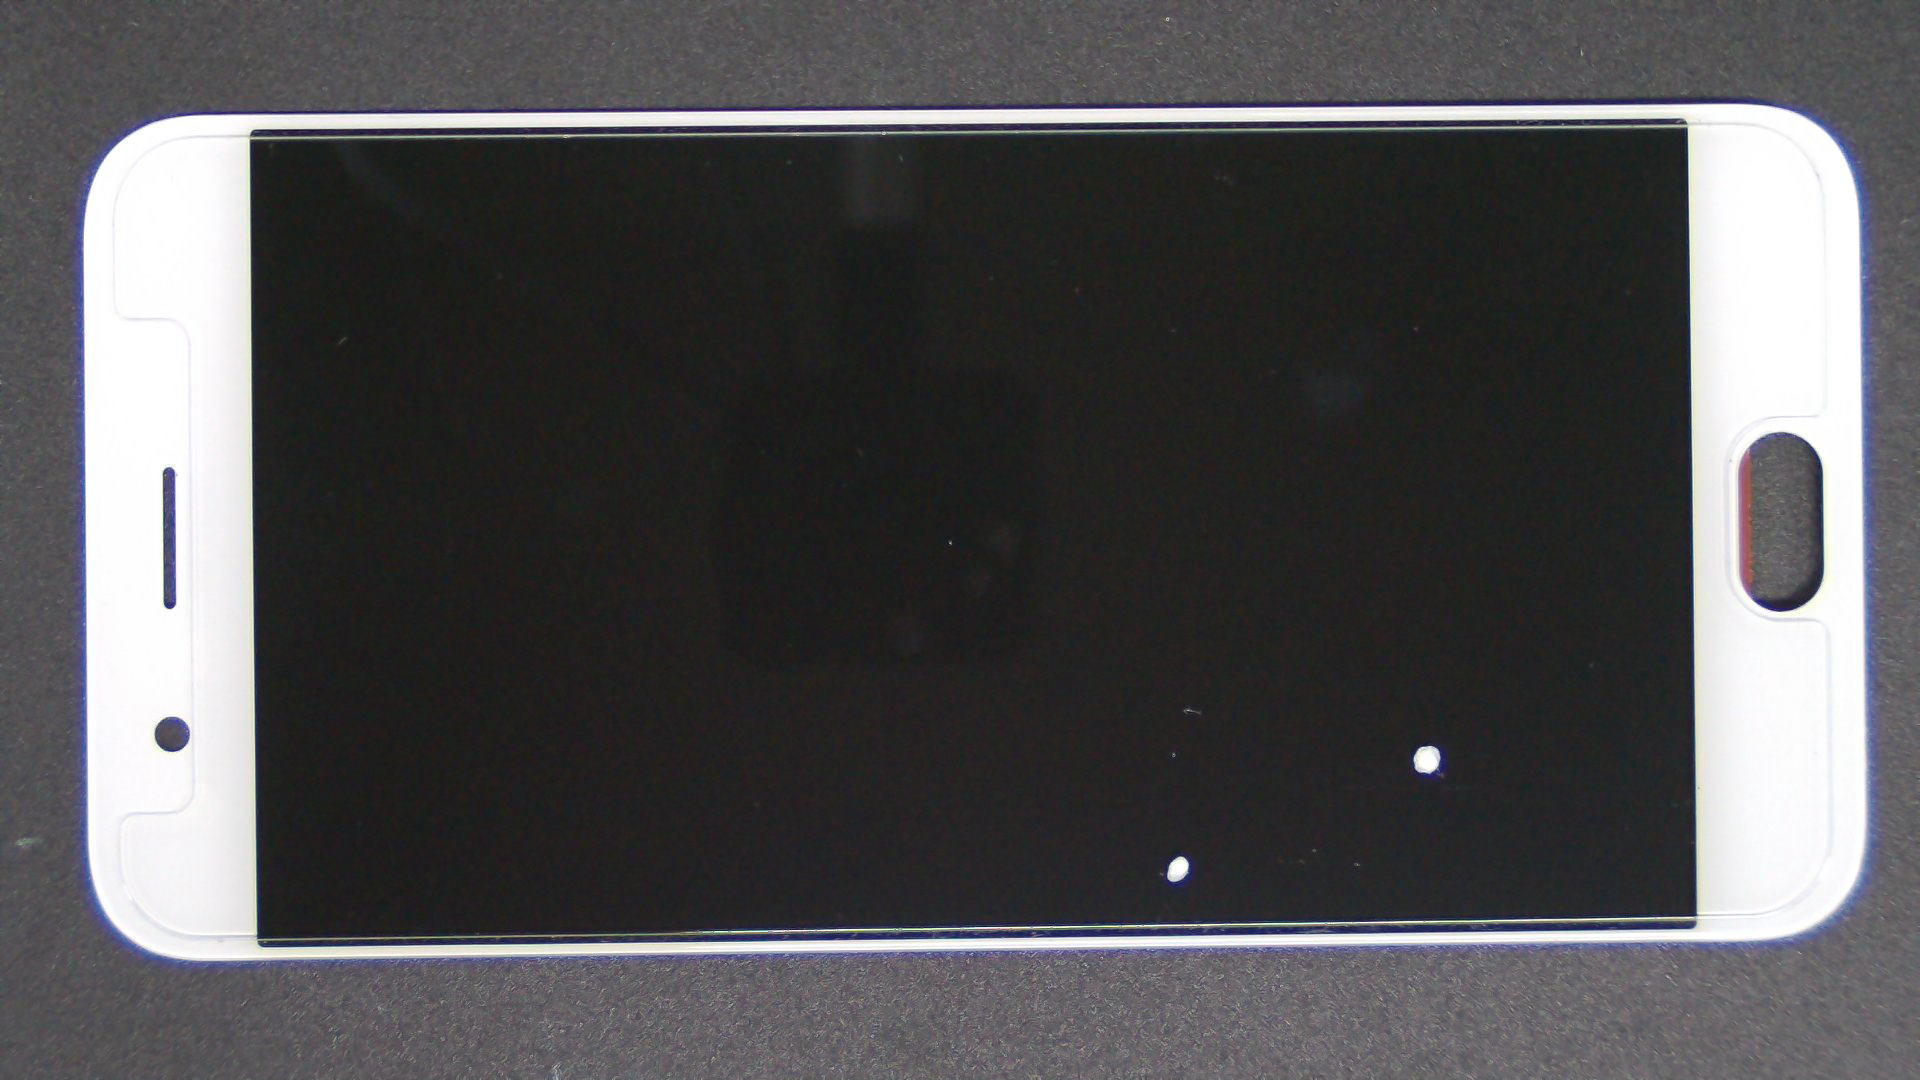defect: (1411, 744, 1445, 779), (1164, 855, 1189, 884)
